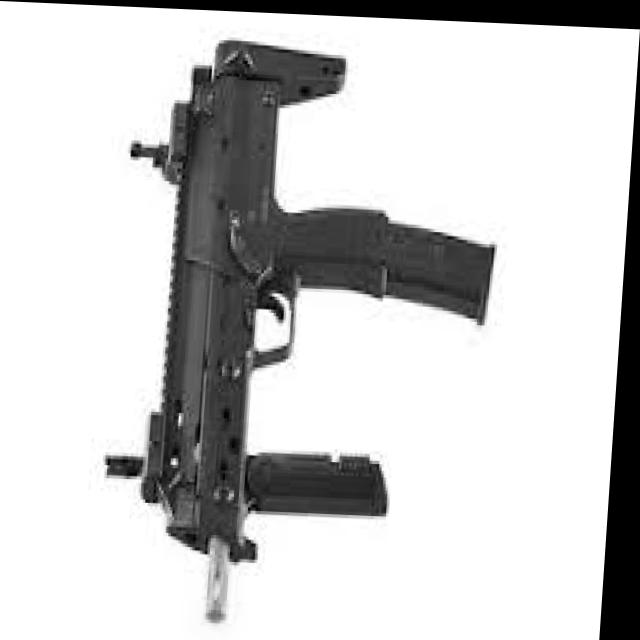semi: (97, 25, 511, 627)
